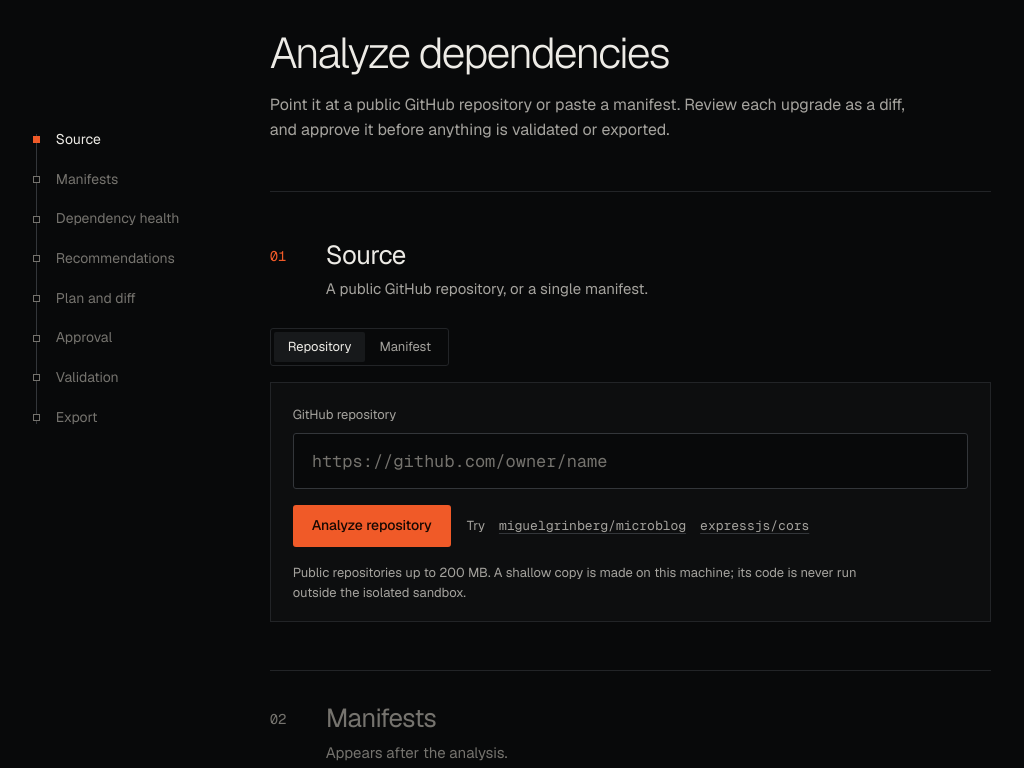
Scenario: ManifestAnalyzer Component › shows repository errors from the server
This screenshot has width=1024, height=768.
Type "https://gitlab.com/a/b" into the field with test id "repo-url-input" at (630, 461), box left=293, top=433, right=968, bottom=489
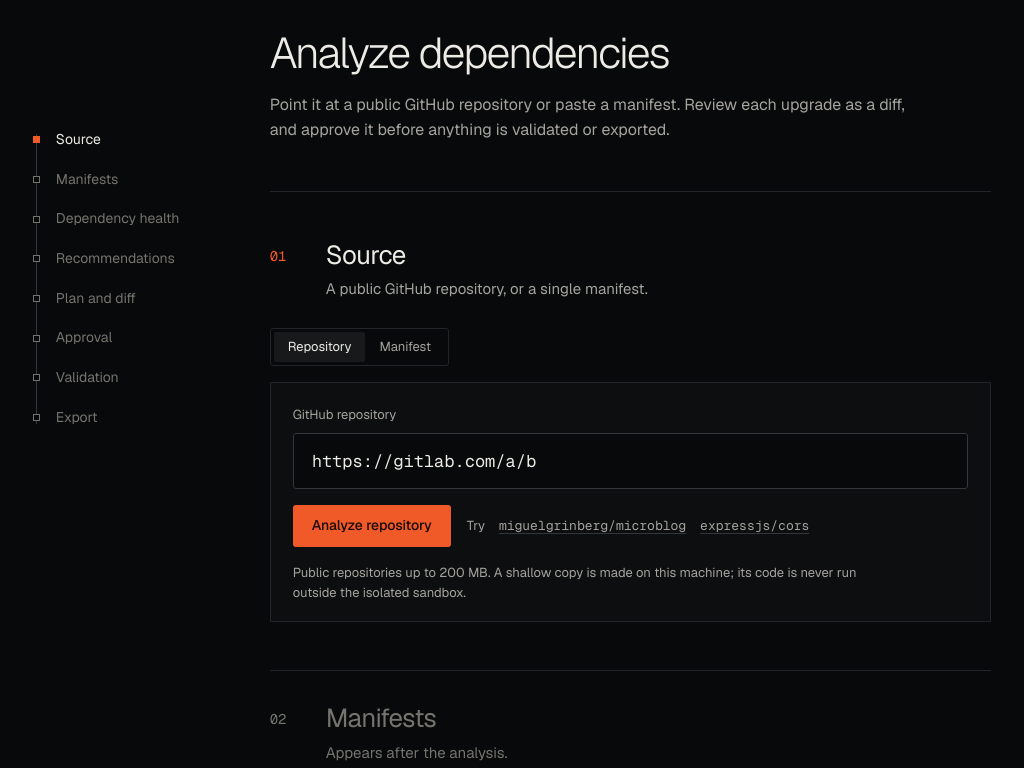
Click the button with test id "btn-analyze-repository" at (372, 526), box left=293, top=505, right=451, bottom=547
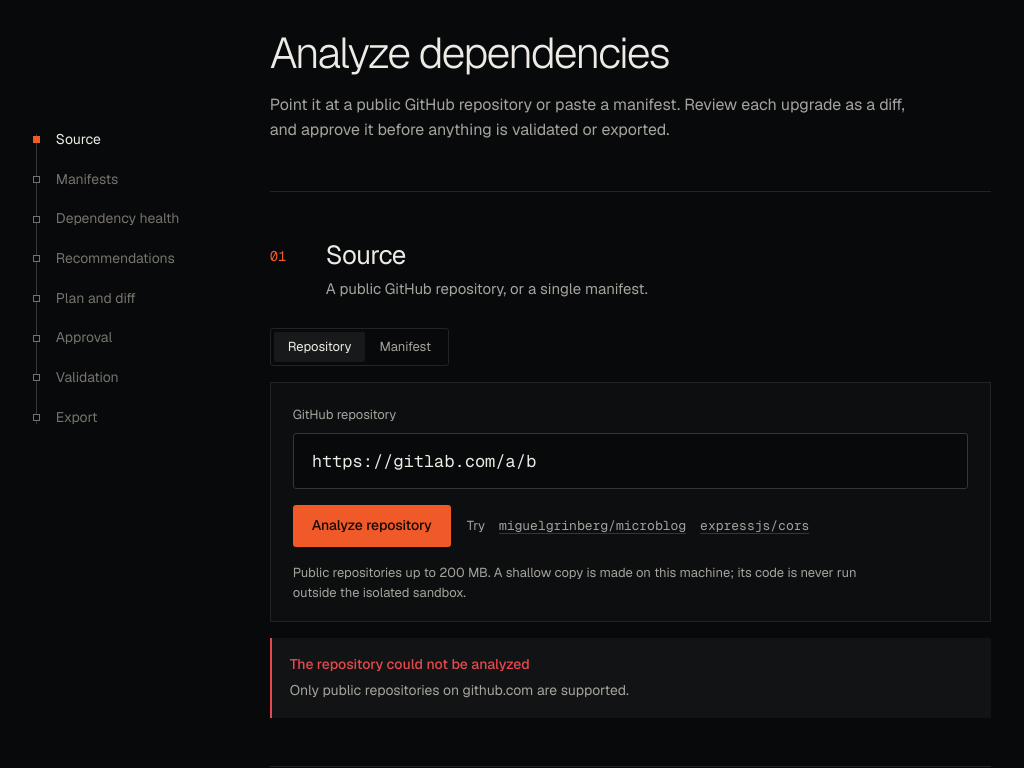
Expected: the message with test id "error-banner" is shown, left=270, top=638, right=991, bottom=718
Expected: the message with test id "error-banner" shows "The repository could not be analyzed", left=290, top=656, right=530, bottom=674
Expected: the message with test id "error-banner" shows "Only public repositories", left=290, top=681, right=629, bottom=699
